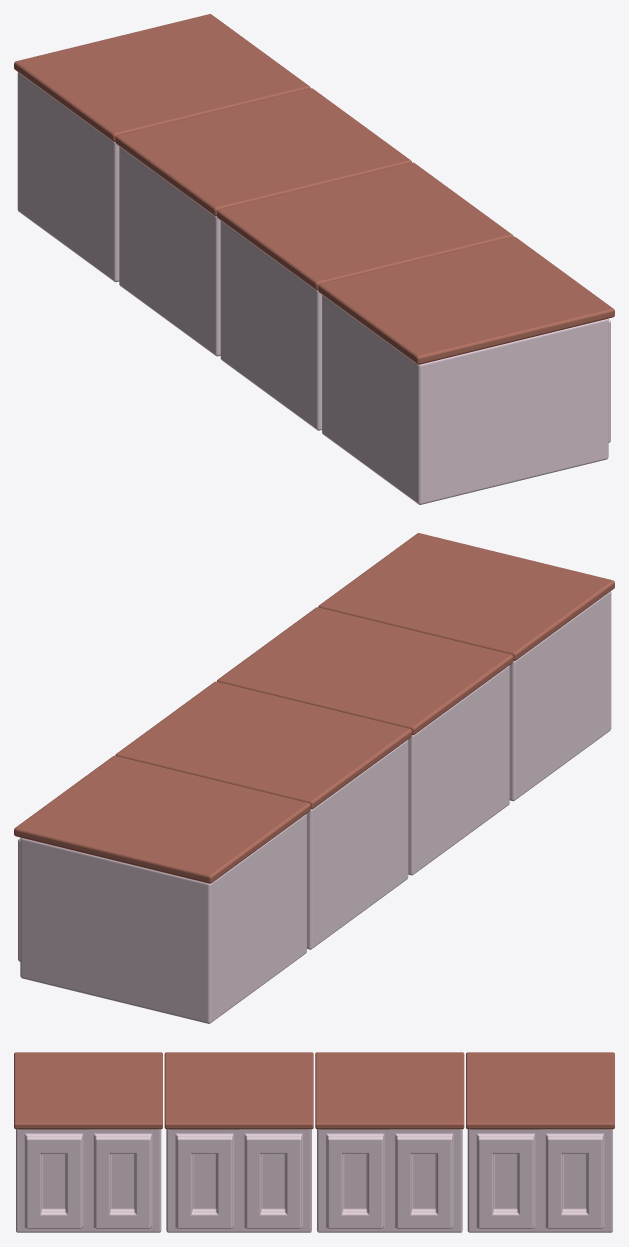
Rendered from worktop.fbx.
The picture shows the model from 3 angles, top to bottom: view 1: azimuth 30°, elevation 25°; view 2: azimuth 150°, elevation 25°; view 3: azimuth 270°, elevation 25°; orthographic projection. The views are drawn at different scales.
Visible parts, largest first — view 1: worktop; view 2: worktop; view 3: worktop.
Boxes of the visible parts, x1=… form: worktop: x1=14, y1=14, x2=614, y2=504; worktop: x1=14, y1=533, x2=614, y2=1023; worktop: x1=14, y1=1052, x2=614, y2=1232.
Size of the model in its own units: 236 by 168 by 818.
